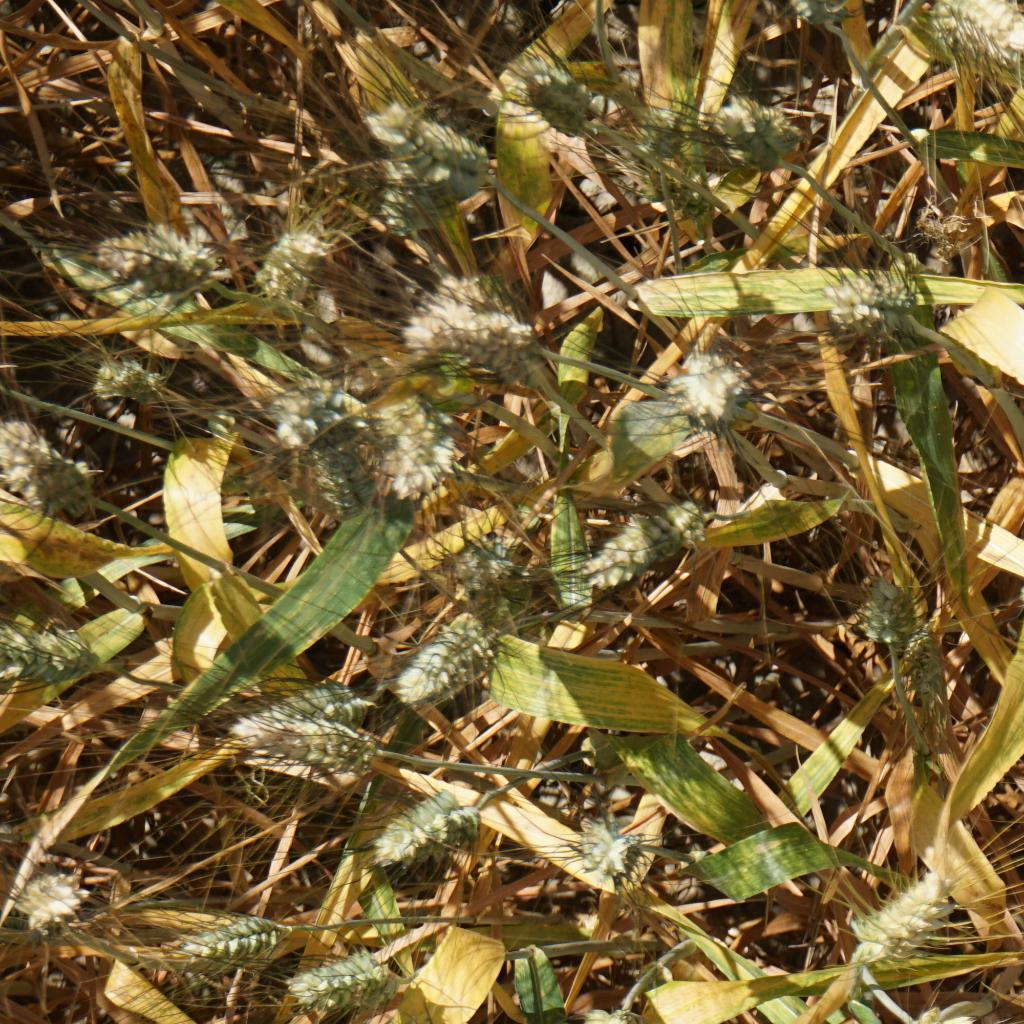0-0: (364, 104, 492, 192), (572, 506, 709, 584), (0, 423, 103, 524), (380, 608, 491, 701), (215, 670, 367, 736), (247, 711, 381, 785), (93, 218, 220, 295), (665, 341, 764, 431), (634, 144, 728, 236), (444, 275, 522, 384), (378, 396, 457, 500), (818, 270, 916, 352), (714, 94, 805, 180), (401, 303, 532, 361), (295, 951, 399, 1024), (366, 163, 450, 253), (0, 610, 98, 687), (374, 788, 477, 861), (169, 909, 278, 977), (927, 0, 1024, 74), (294, 424, 373, 512), (856, 876, 939, 958), (246, 220, 325, 297), (82, 353, 175, 408), (267, 381, 350, 440), (583, 819, 657, 885), (428, 529, 513, 585), (860, 576, 913, 659), (22, 872, 89, 935), (522, 71, 596, 128), (894, 627, 944, 706), (644, 107, 688, 163)
